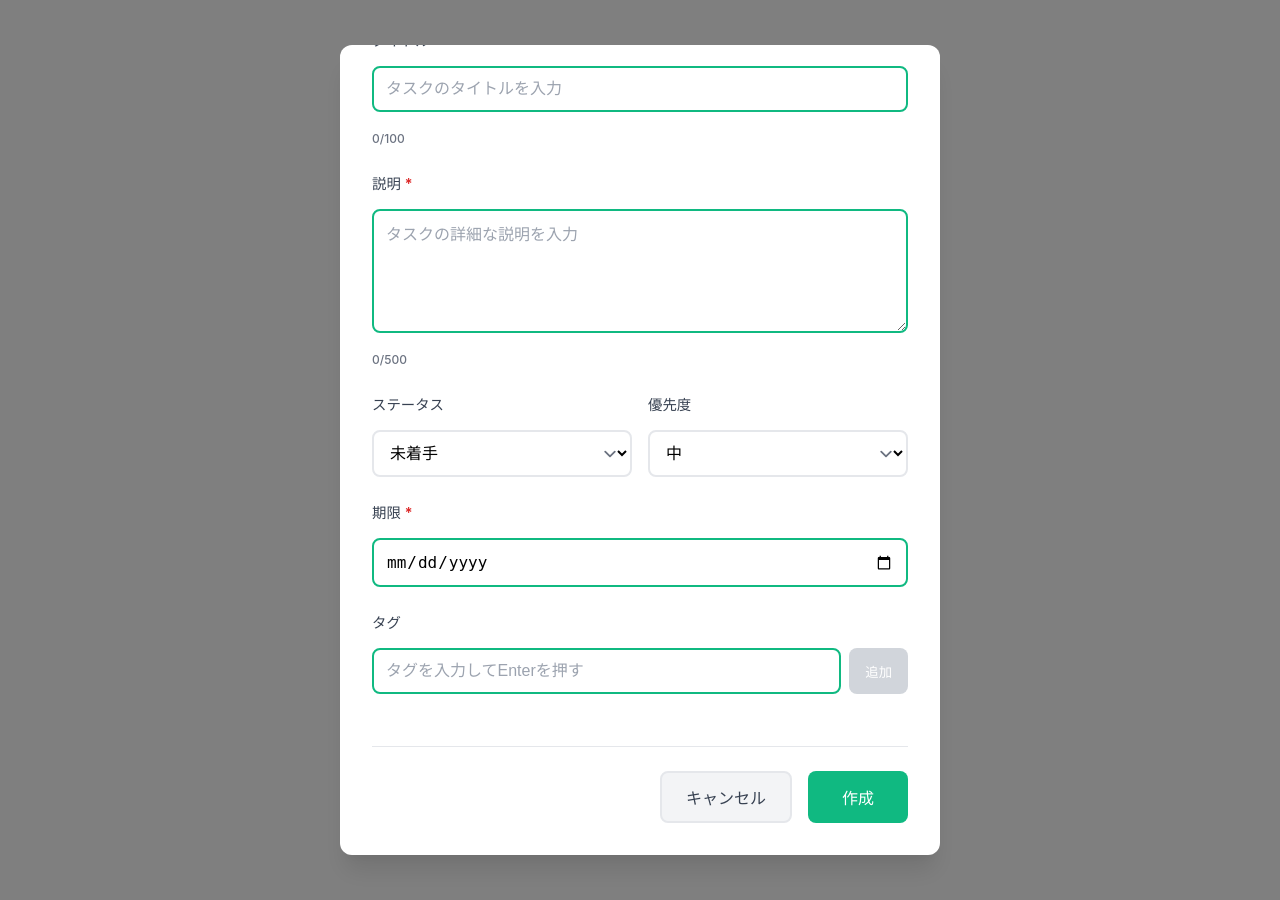
Scenario: TaskForm Component › clears errors when correcting invalid input
(page scrolled)
Submit to show errors
Click the button "作成" at point(858, 797), box x1=808 y1=771 x2=908 y2=823
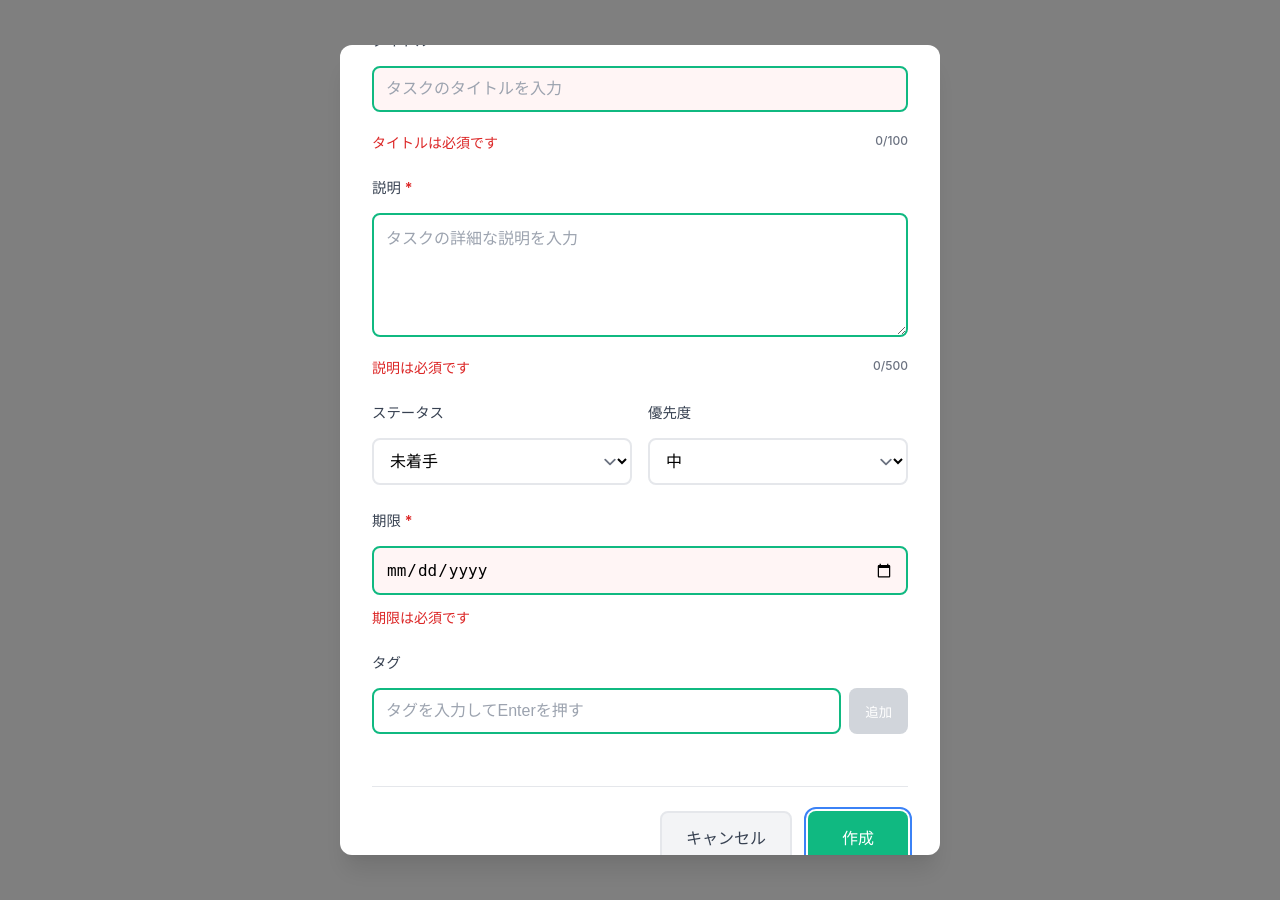
expect the text "タイトルは必須です" is shown: met, box x1=372 y1=132 x2=498 y2=152
Type in title to clear error
Type "Valid title" into the field labelled "タイトル *" at point(640, 89), box x1=372 y1=66 x2=908 y2=112
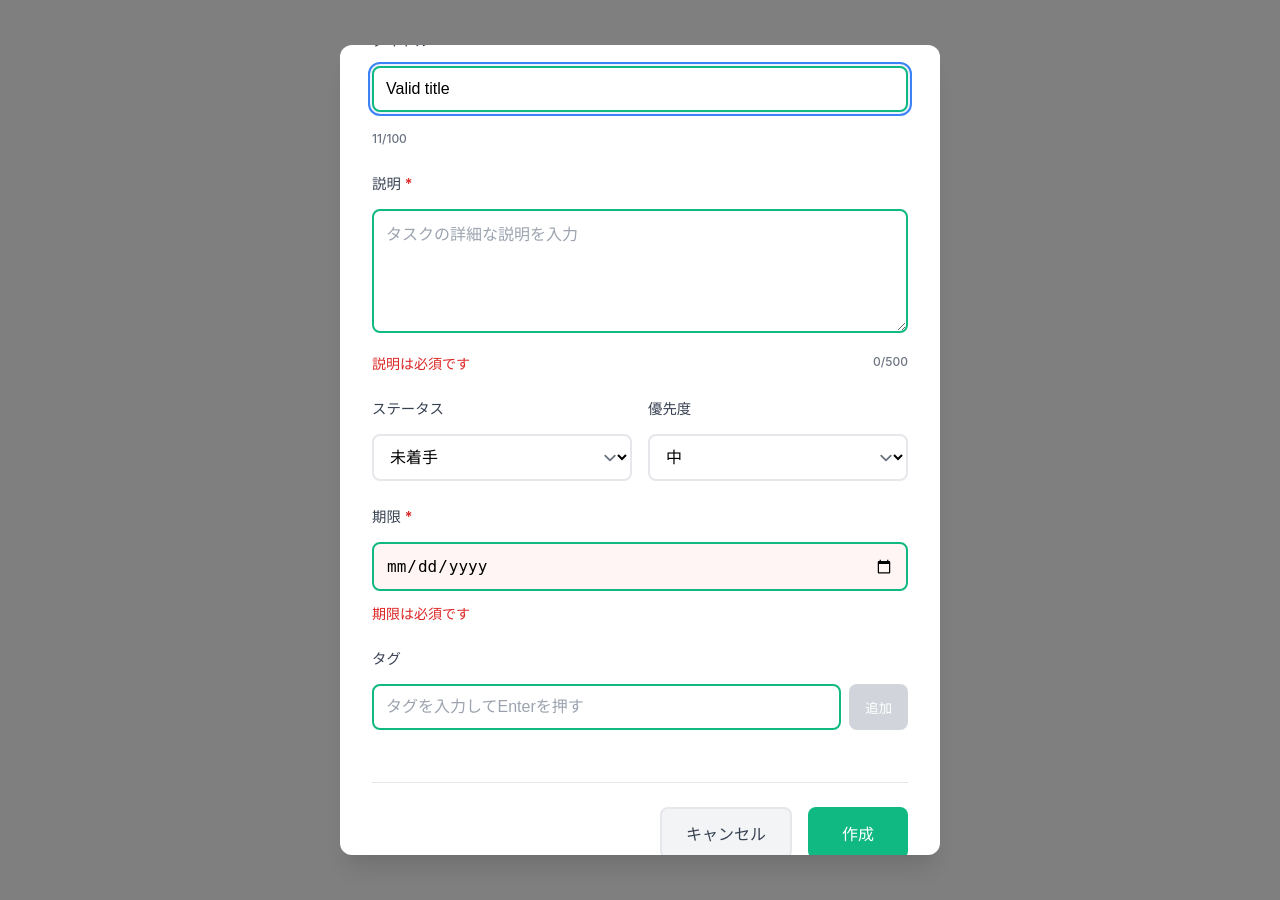
expect the text "タイトルは必須です" is gone: met
